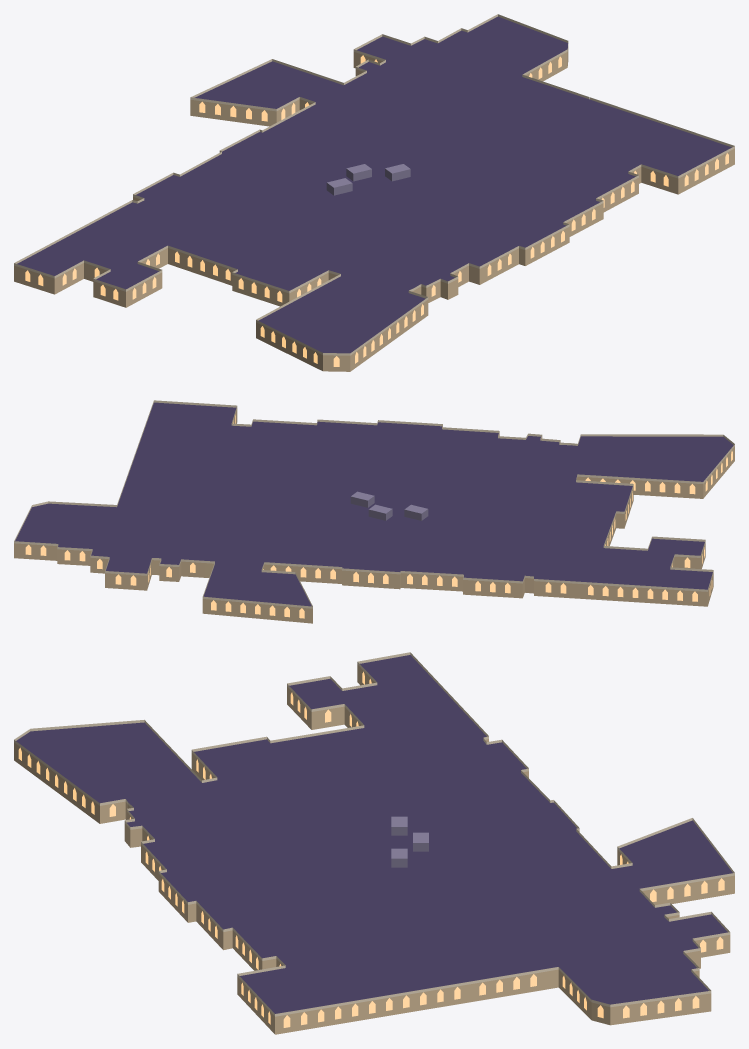
Rendered from b-124-richard-ivey-building.glb.
The picture shows the model from 3 angles, top to bottom: view 1: azimuth 30°, elevation 25°; view 2: azimuth 150°, elevation 25°; view 3: azimuth 270°, elevation 25°; orthographic projection. The views are drawn at different scales.
Visible parts, largest first — view 1: campus/b-124-richard-ivey-building-0; view 2: campus/b-124-richard-ivey-building-0; view 3: campus/b-124-richard-ivey-building-0.
Part boxes in pixels (x1=…): campus/b-124-richard-ivey-building-0: x1=14, y1=14, x2=734, y2=371; campus/b-124-richard-ivey-building-0: x1=14, y1=400, x2=734, y2=623; campus/b-124-richard-ivey-building-0: x1=14, y1=652, x2=734, y2=1034.
Bounding box in the file's own units: 159 × 5.5 × 134.
